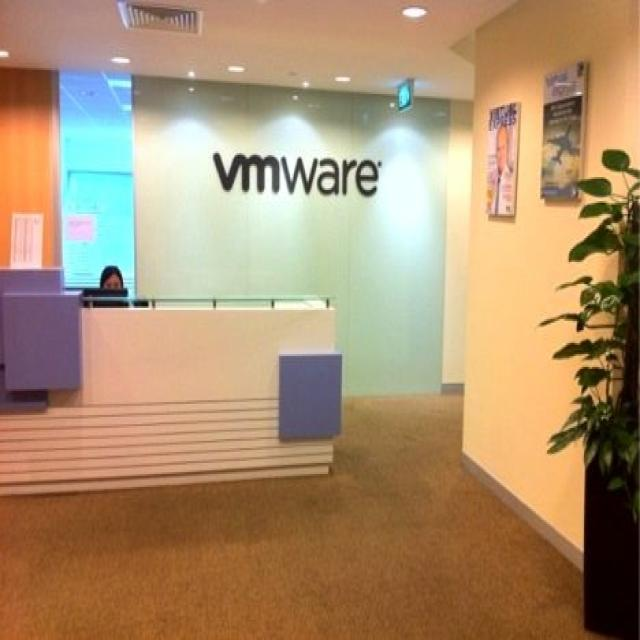vmware: (213, 150, 281, 193)
